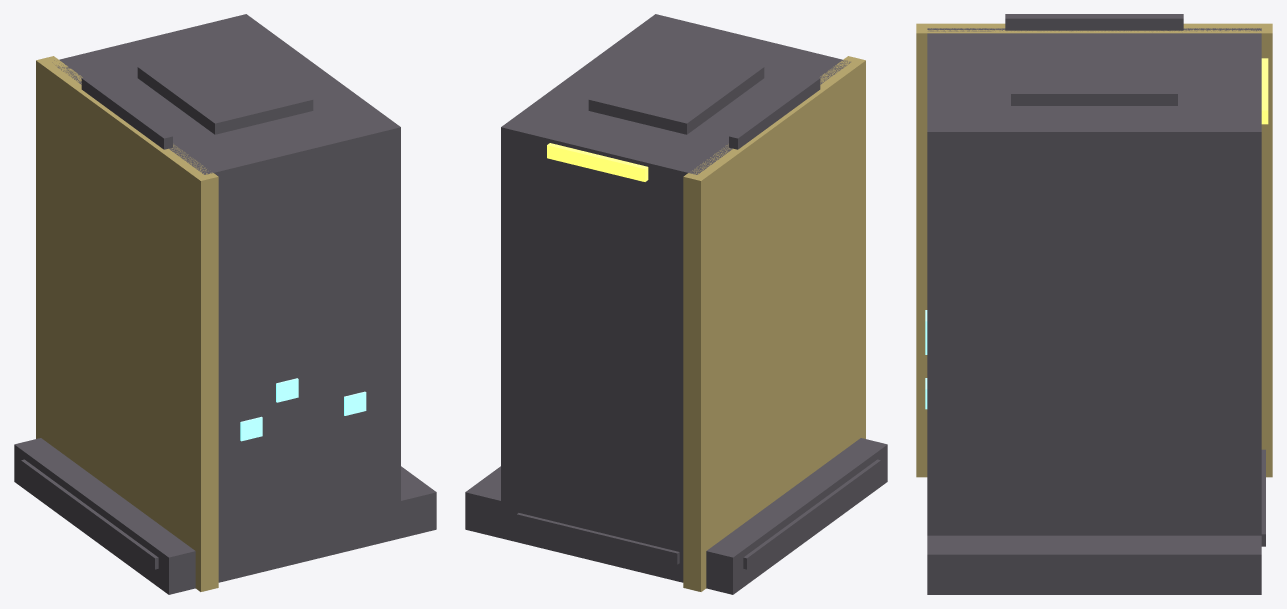
Rendered from finance_tower_lod0-C4MFli5i.glb.
3 views of the same model, side by side, from view 1: azimuth 30°, elevation 25°; view 2: azimuth 150°, elevation 25°; view 3: azimuth 270°, elevation 25° (orthographic). The views are drawn at different scales.
Parts seen in each view (by area): view 1: body, window; view 2: body, sign; view 3: body, sign.
Boxes of the visible parts, x1,y1,x2,y2 form: body: (14,14,436,594); window: (240,378,366,441); body: (465,14,887,594); sign: (547,143,648,181); body: (916,14,1272,594); sign: (1261,58,1268,124).
Size of the model in its own units: 0.608 by 0.904 by 0.64.
